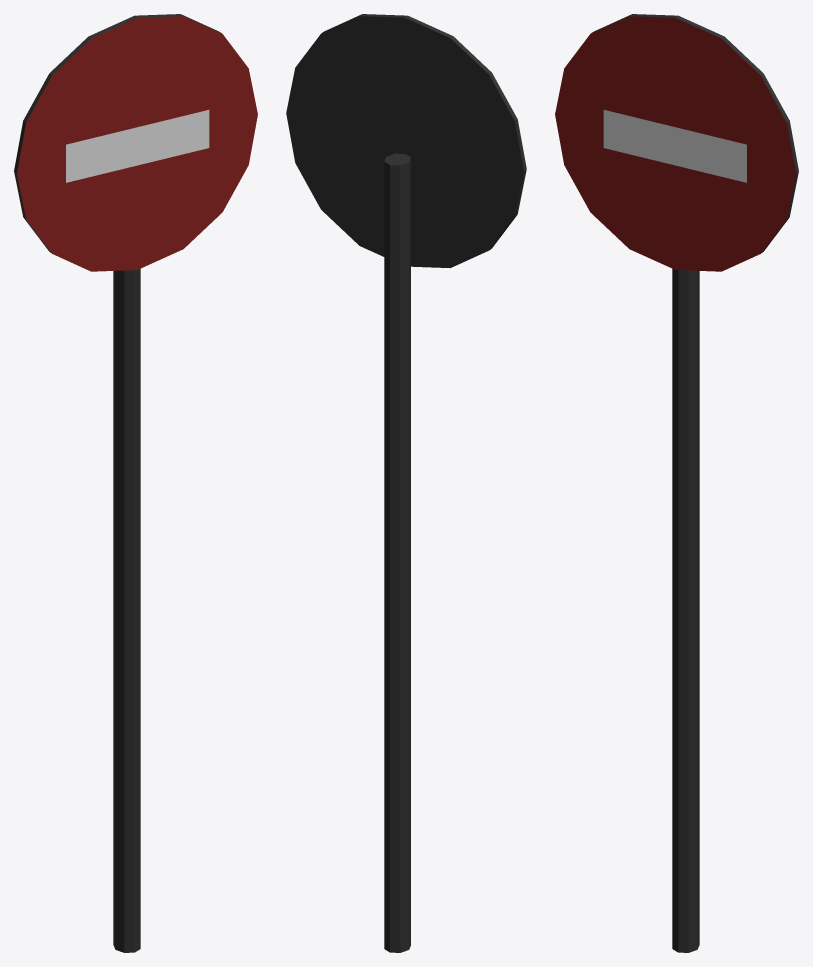
File: stopsign (1).fbx
3 renders of one model, left to right at view 1: azimuth 30°, elevation 25°; view 2: azimuth 150°, elevation 25°; view 3: azimuth 330°, elevation 25°, orthographic.
Visible parts, largest first — view 1: Sign.001; view 2: Sign.001; view 3: Sign.001.
Boxes of the visible parts, bbox=[...] form: Sign.001: bbox=[14, 14, 257, 952]; Sign.001: bbox=[286, 14, 526, 952]; Sign.001: bbox=[555, 14, 798, 952].
Size of the model in its own units: 211 by 785 by 27.9.
